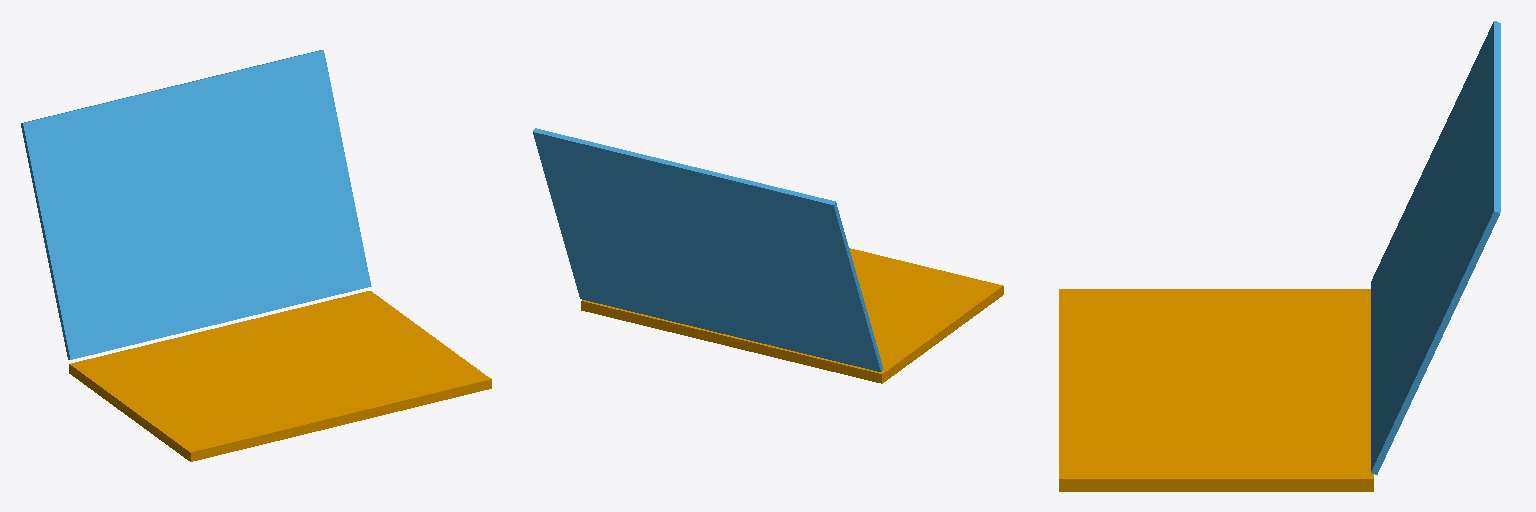
URDF robot description (laptop):
<robot name="laptop">
<link name="base"><inertial><origin xyz="0.00000 0.00000 0.00540"/><mass value="1.6"/><inertia ixx="8.223e-03" ixy="0" ixz="0" iyy="1.689e-02" iyz="0" izz="2.508e-02"/></inertial>
<visual><origin xyz="0.00000 0.00000 0.00000" rpy="0.00000 0.00000 0.00000"/><geometry><mesh filename="laptop_base_vis.obj"/></geometry></visual>
<collision><origin xyz="0.00000 0.00000 0.00540" rpy="0 0 0"/><geometry><box size="0.35570 0.24810 0.01080"/></geometry></collision>
</link>
<link name="lid"><inertial><origin xyz="0.00000 -0.12405 0.00000"/><mass value="0.55"/><inertia ixx="2.823e-03" ixy="0" ixz="0" iyy="5.800e-03" iyz="0" izz="8.620e-03"/></inertial>
<visual><origin xyz="0.00000 0.00000 0.00000" rpy="0.00000 0.00000 0.00000"/><geometry><mesh filename="laptop_lid_vis.obj"/></geometry></visual>
<collision><origin xyz="0.00000 -0.12405 0.00000" rpy="0 0 0"/><geometry><box size="0.35570 0.24810 0.00550"/></geometry></collision>
</link>
<joint name="hinge" type="revolute"><parent link="base"/><child link="lid"/><origin xyz="0.00000 0.12405 0.01505" rpy="-1.974379 0.000000 0.000000"/><axis xyz="-1 0 0"/><limit lower="-1.9744" upper="0.3818" effort="50" velocity="5"/><dynamics damping="0.02" friction="0.8"/></joint>
</robot>

--- Render facts (derived) ---
3 views of the same robot in one strip: view 1: azimuth 30°, elevation 25°; view 2: azimuth 150°, elevation 25°; view 3: azimuth 270°, elevation 25° (orthographic).
Robot: laptop — 2 links, 1 joints (1 revolute); root link base; default pose: every joint at zero.
Visible links, largest first — view 1: lid, base; view 2: lid, base; view 3: base, lid.
Link boxes in pixels (left/top/right/bottom): lid: left=21, top=50, right=371, bottom=359; base: left=69, top=291, right=491, bottom=461; lid: left=533, top=128, right=882, bottom=371; base: left=581, top=248, right=1003, bottom=383; base: left=1059, top=289, right=1373, bottom=491; lid: left=1371, top=21, right=1500, bottom=474.
Bounding box of the posed robot: 0.3557 × 0.3481 × 0.2443 m (x, y, z).
Meshes: 2 distinct files referenced, 2 mesh visuals loaded (2 OBJ).
